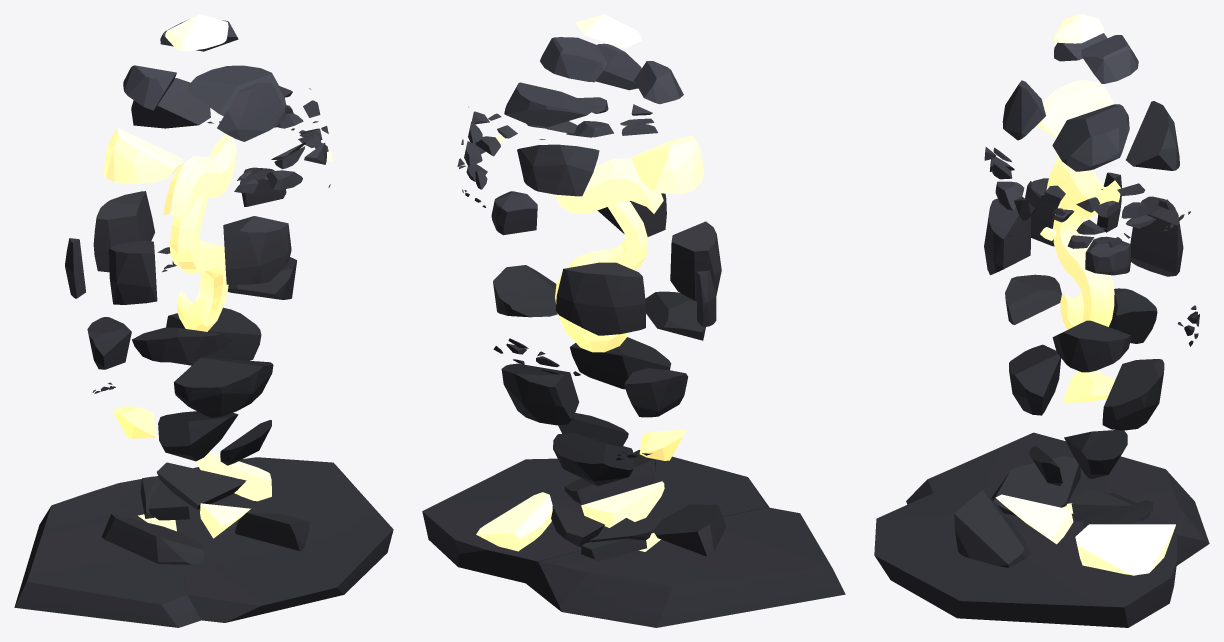
File: Torre_elfo.fbx
3 views of the same model, side by side, from view 1: azimuth 30°, elevation 25°; view 2: azimuth 150°, elevation 25°; view 3: azimuth 270°, elevation 25° (orthographic). The views are drawn at different scales.
Parts seen in each view (by area): view 1: Roca_Elfica1; view 2: Roca_Elfica1; view 3: Roca_Elfica1.
Boxes of the visible parts, x1,y1,x2,y2 form: Roca_Elfica1: (14,14,393,627); Roca_Elfica1: (422,14,845,627); Roca_Elfica1: (874,14,1209,627).
Size of the model in its own units: 181 by 252 by 141.
